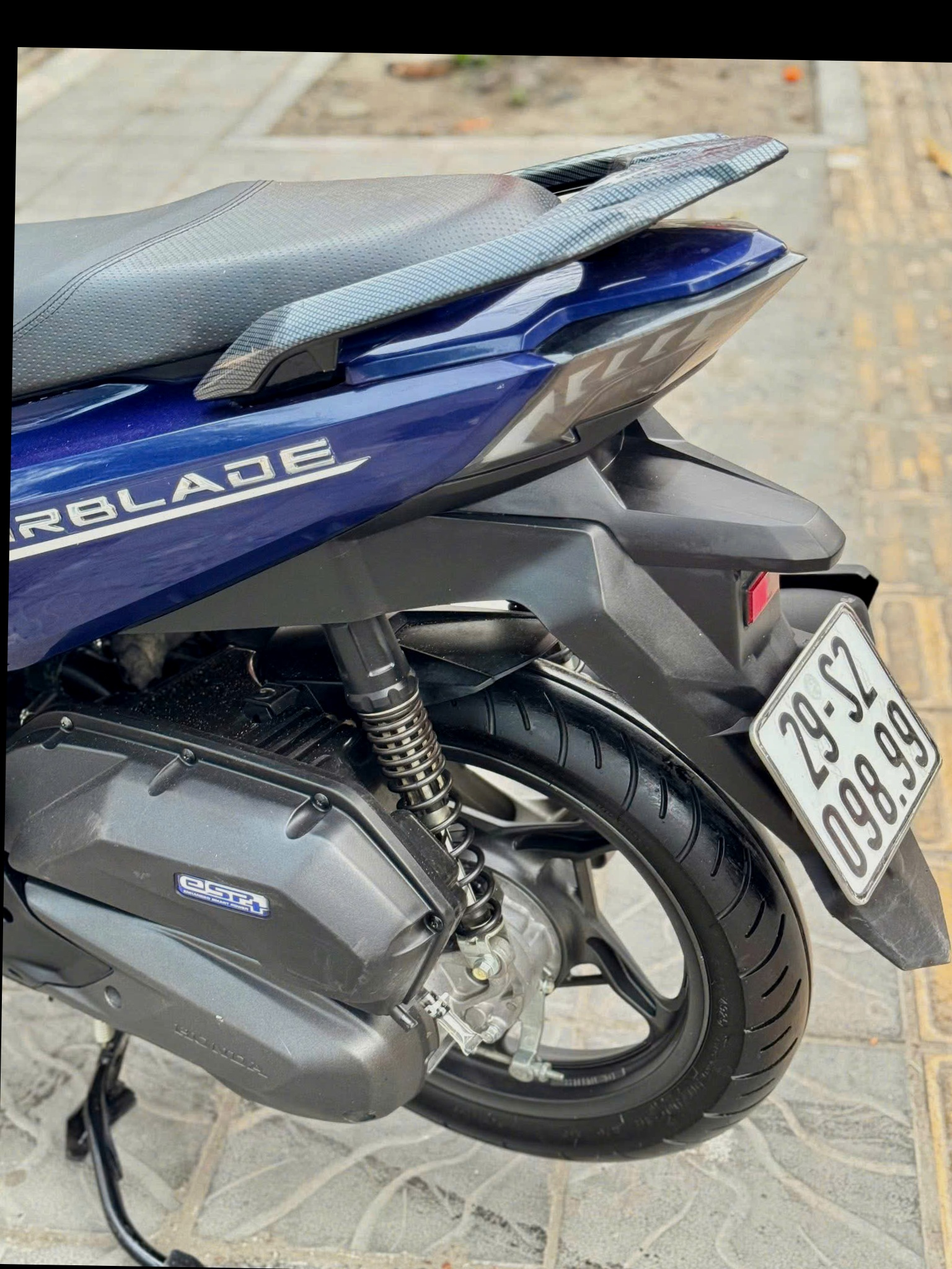Bien-so: (724, 528, 944, 870)
